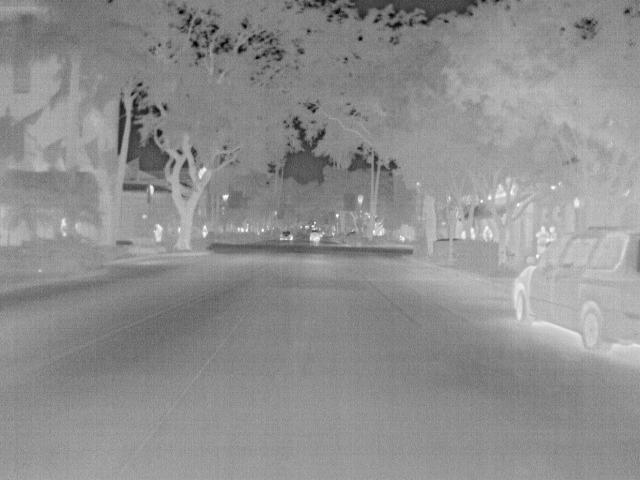car: (510, 224, 639, 356), (276, 228, 297, 243), (307, 227, 325, 244)
person: (532, 225, 550, 257), (150, 222, 165, 250), (545, 225, 558, 247), (480, 223, 494, 243)
